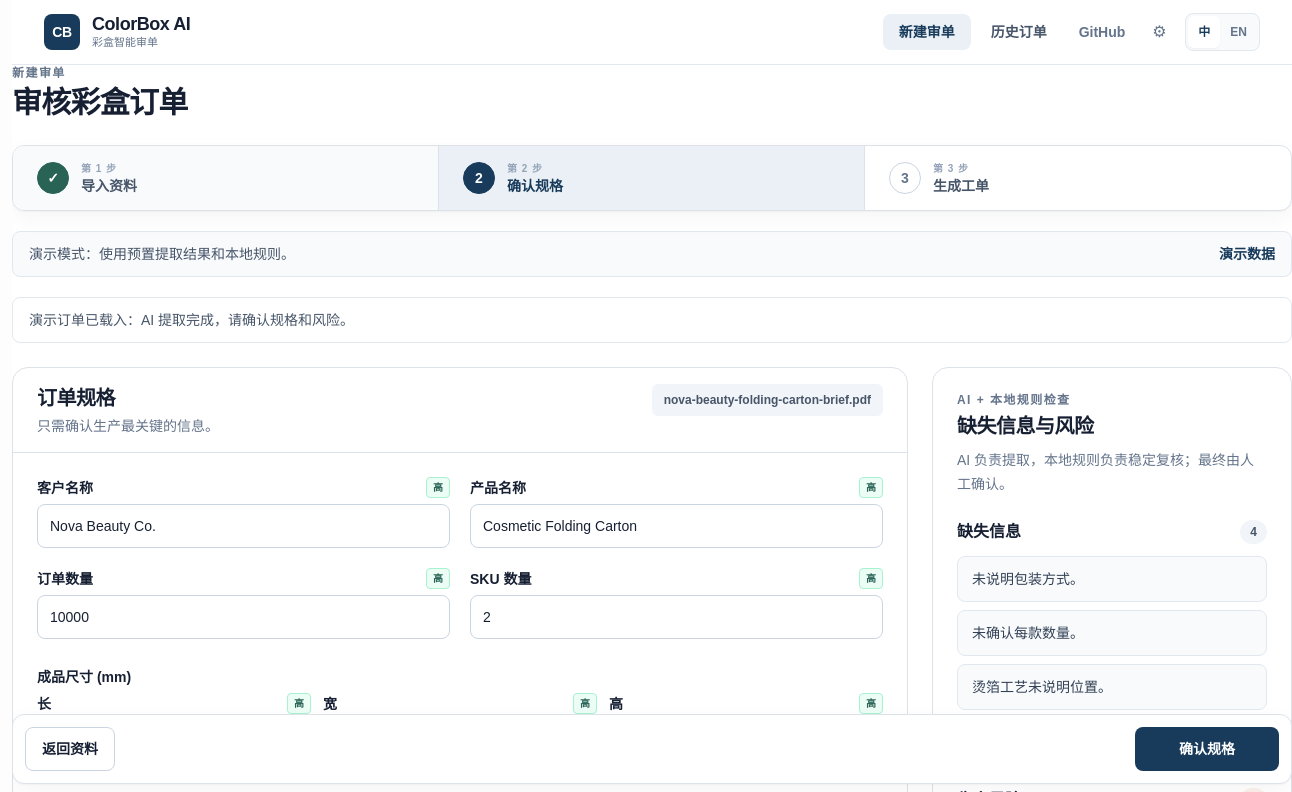
Scenario: Public Demo Generate Sheet interaction › updates the document language without losing the current review state
Replace the text in the field showing "Cosmetic Folding Carton" with "Edited Cosmetic Carton" at (676, 526), box [470,504,883,548]
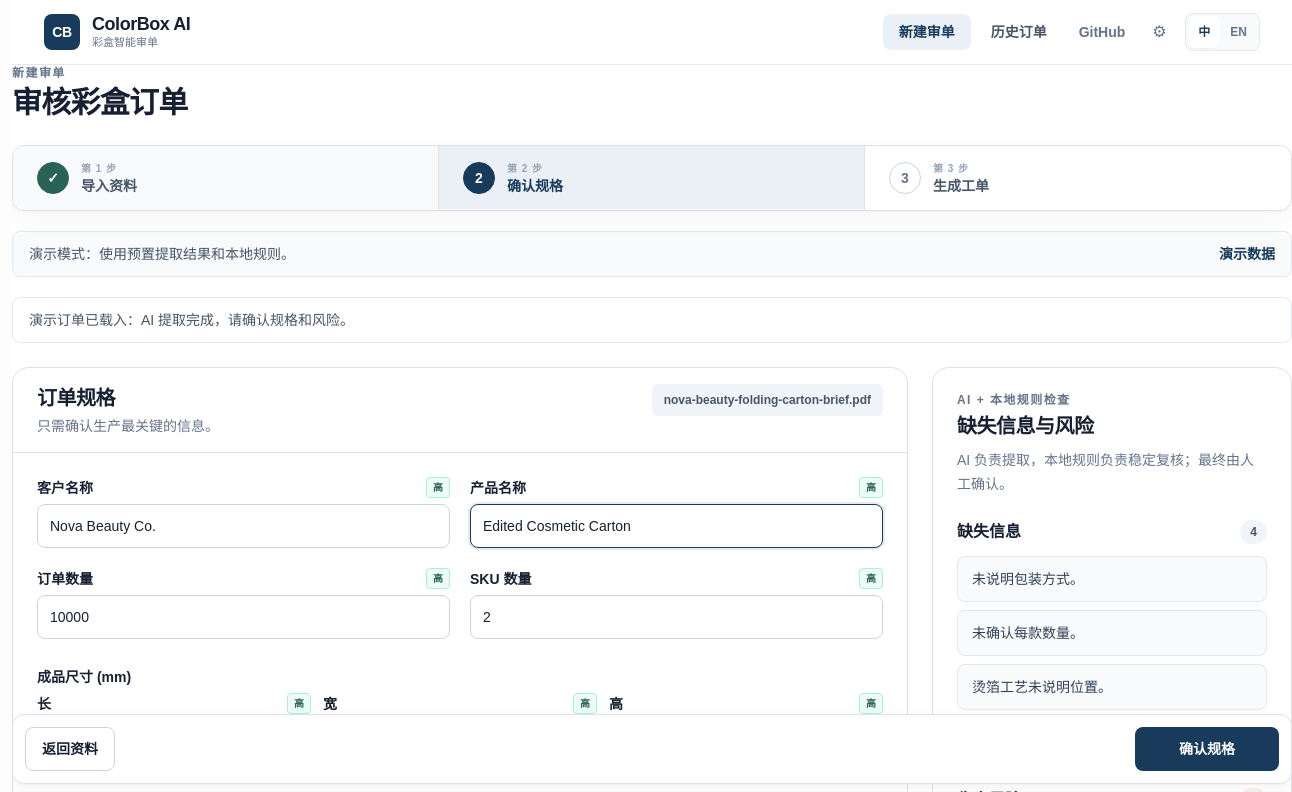
Click the button "EN" at (1239, 32), box [1220,16,1257,48]
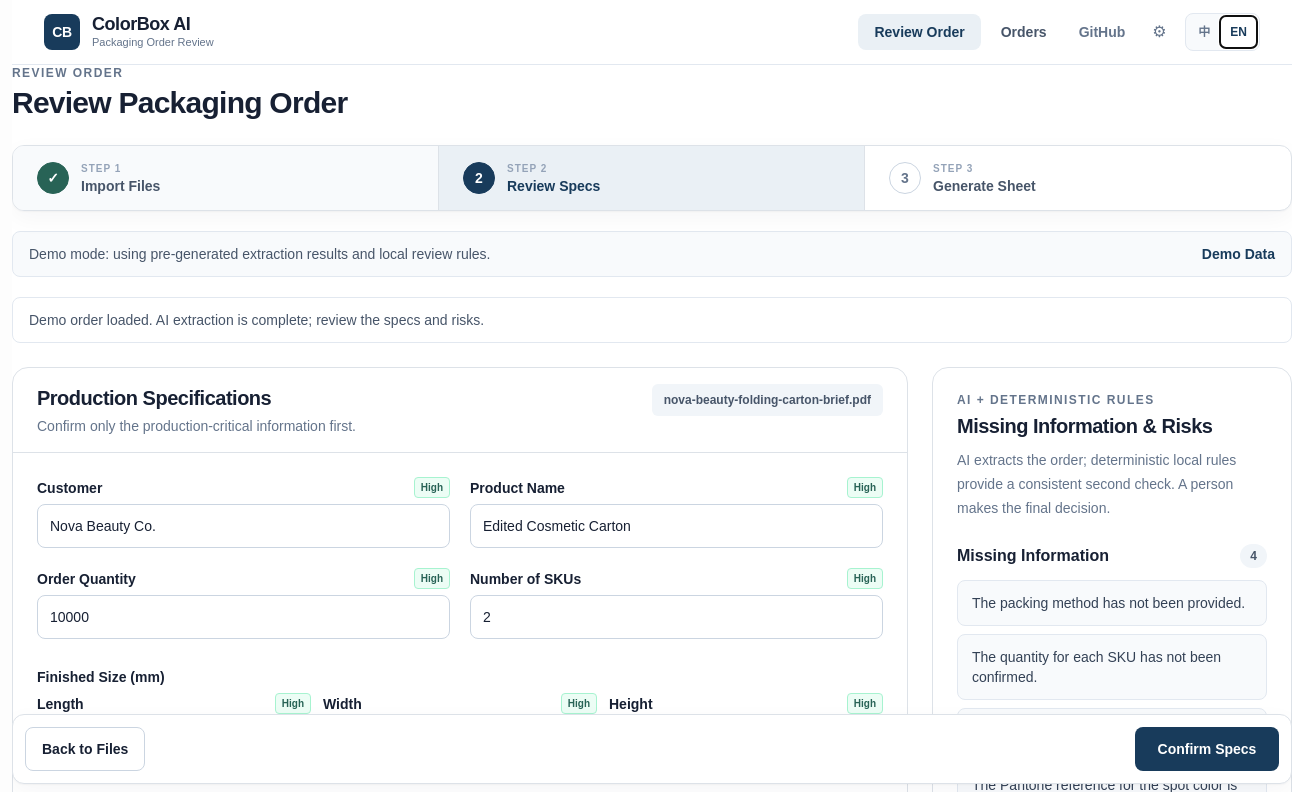
Now the button "Confirm Specs" is shown, box [1135,727,1279,771]
Click the button "中" at (1204, 32), box [1188,16,1220,48]
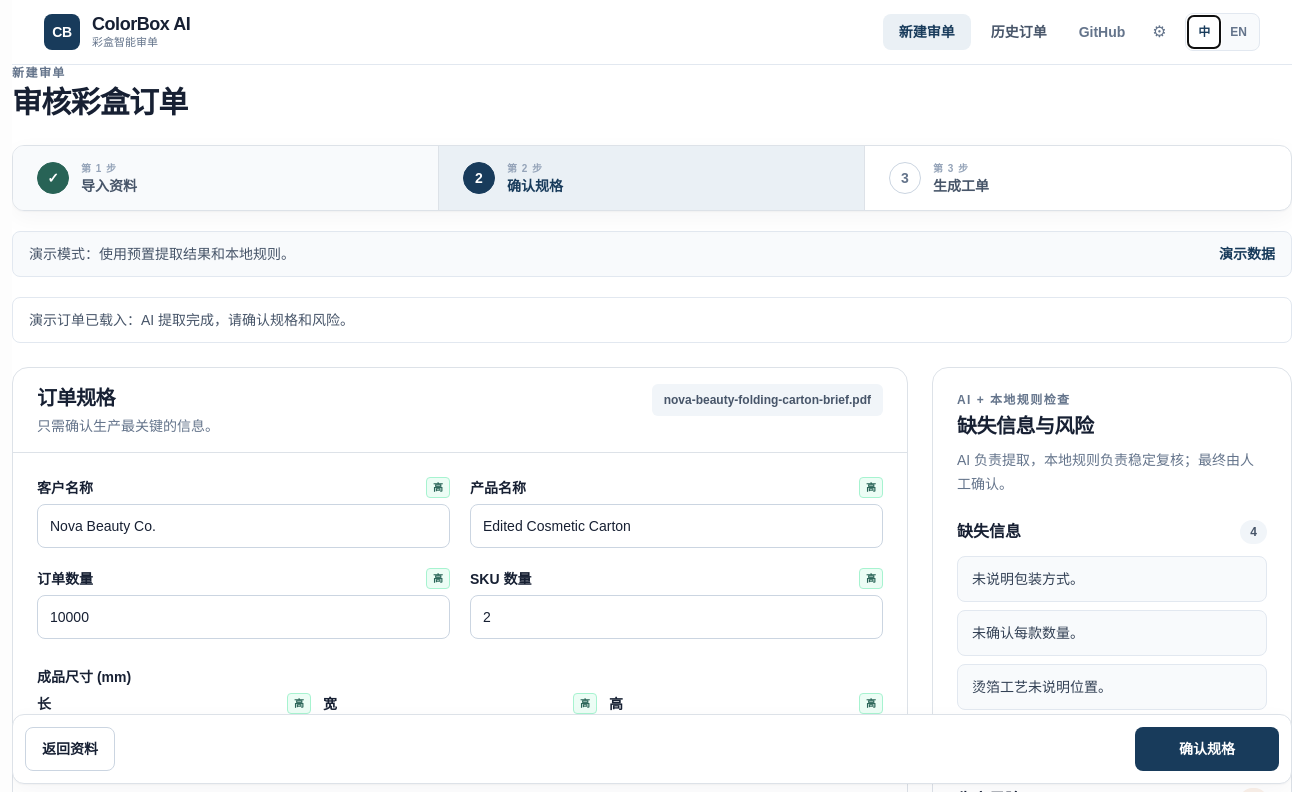
Now the button "确认规格" is shown, box [1135,727,1279,771]
